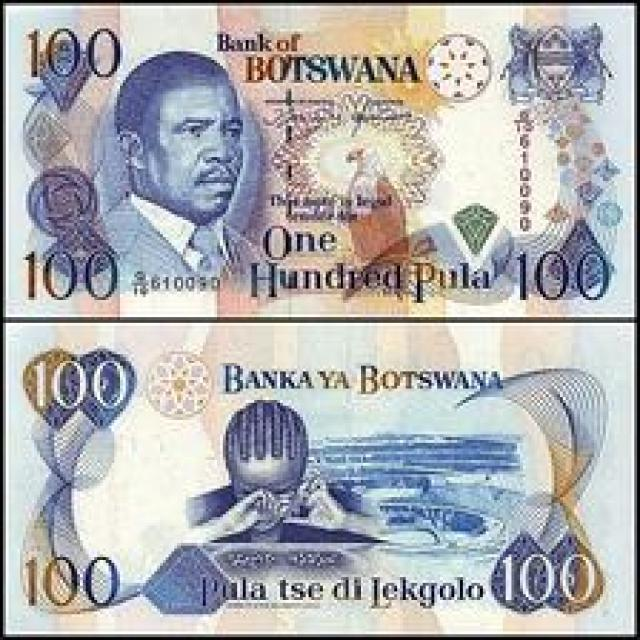banknote: (6, 6, 632, 315), (12, 326, 637, 634)
